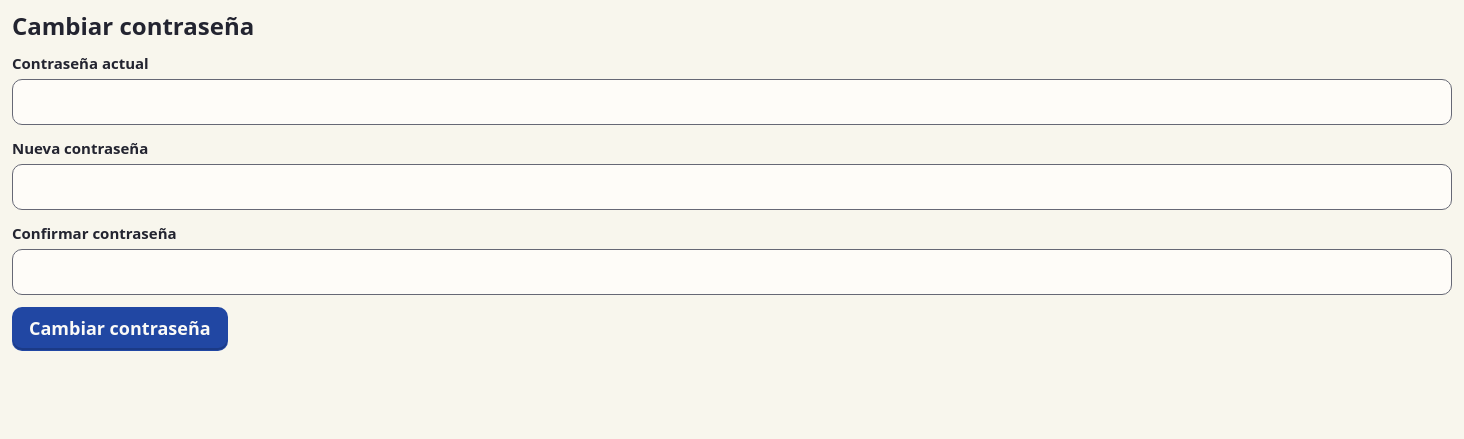
Test case: cambia la contraseña, avisa y limpia el formulario sin persistirla
This screenshot has width=1464, height=439.
Type "actual-larga-1" into the password field labelled "Contraseña actual" at x=732, y=102, box [12,79,1452,125]
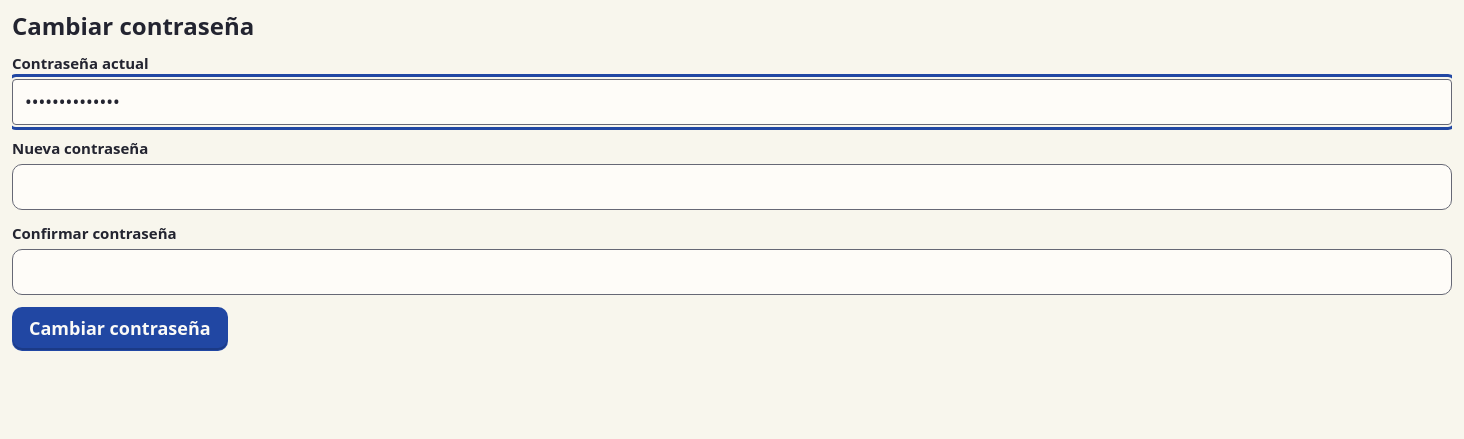
Type "nueva-larga-12" into the password field labelled "Nueva contraseña" at x=732, y=187, box [12,164,1452,210]
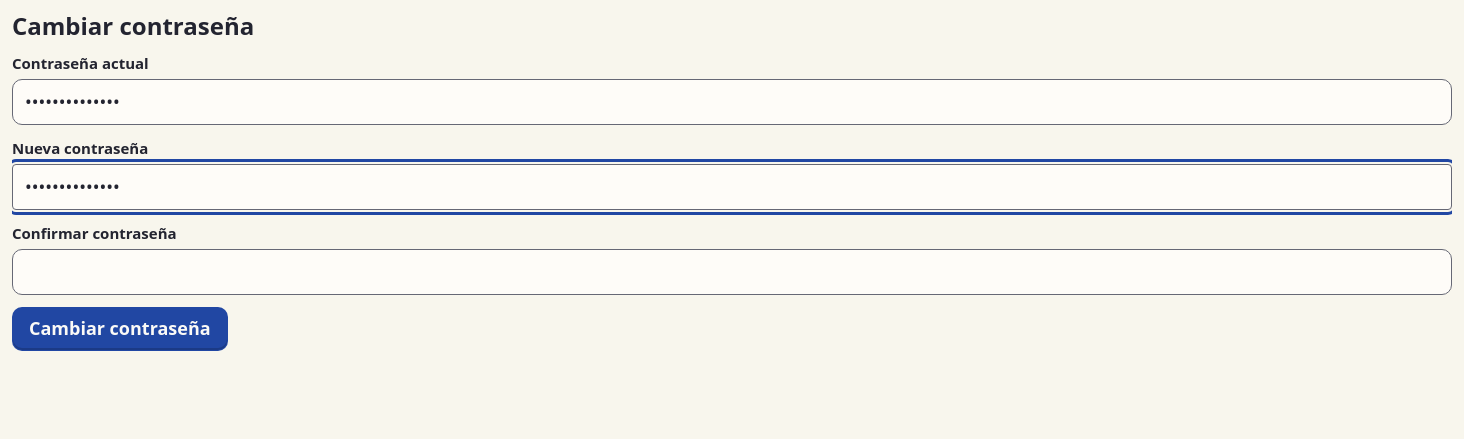
Type "nueva-larga-12" into the password field labelled "Confirmar contraseña" at x=732, y=272, box [12,249,1452,295]
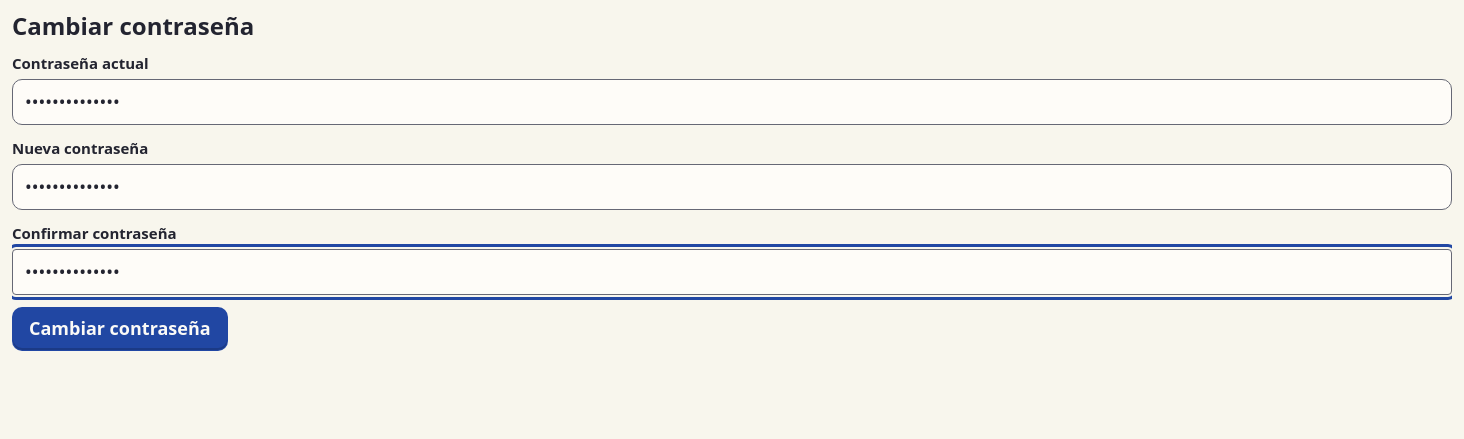
Click the button "Cambiar contraseña" at x=120, y=329, box [12,307,228,351]
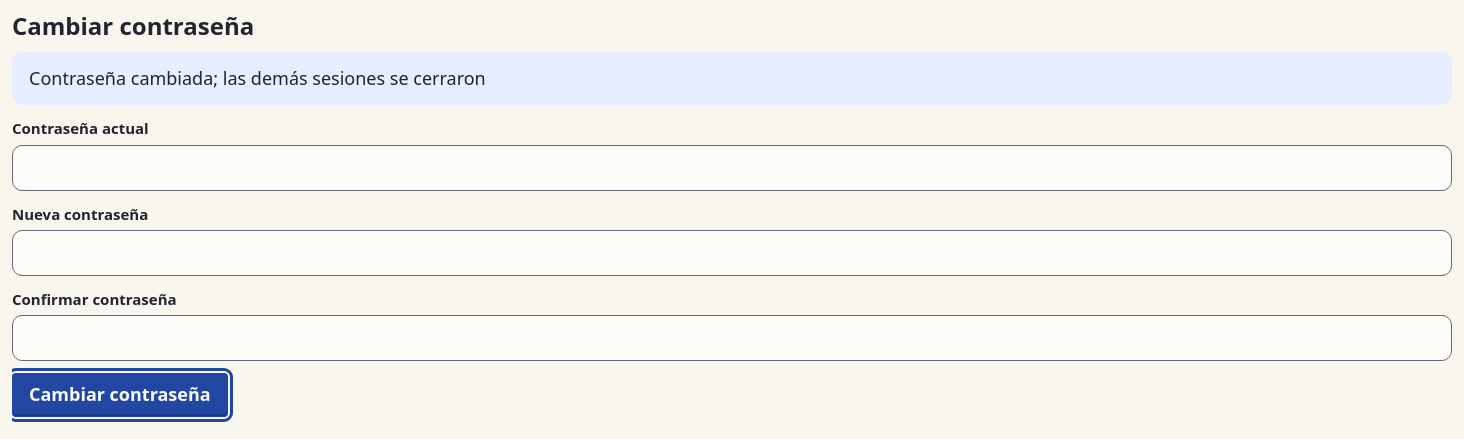
Expected: the message reads "Contraseña cambiada; las demás sesiones se cerraron", [29,66,486,90]
Expected: the password field labelled "Contraseña actual" is empty, [12,145,1452,191]
Expected: the password field labelled "Nueva contraseña" is empty, [12,230,1452,276]
